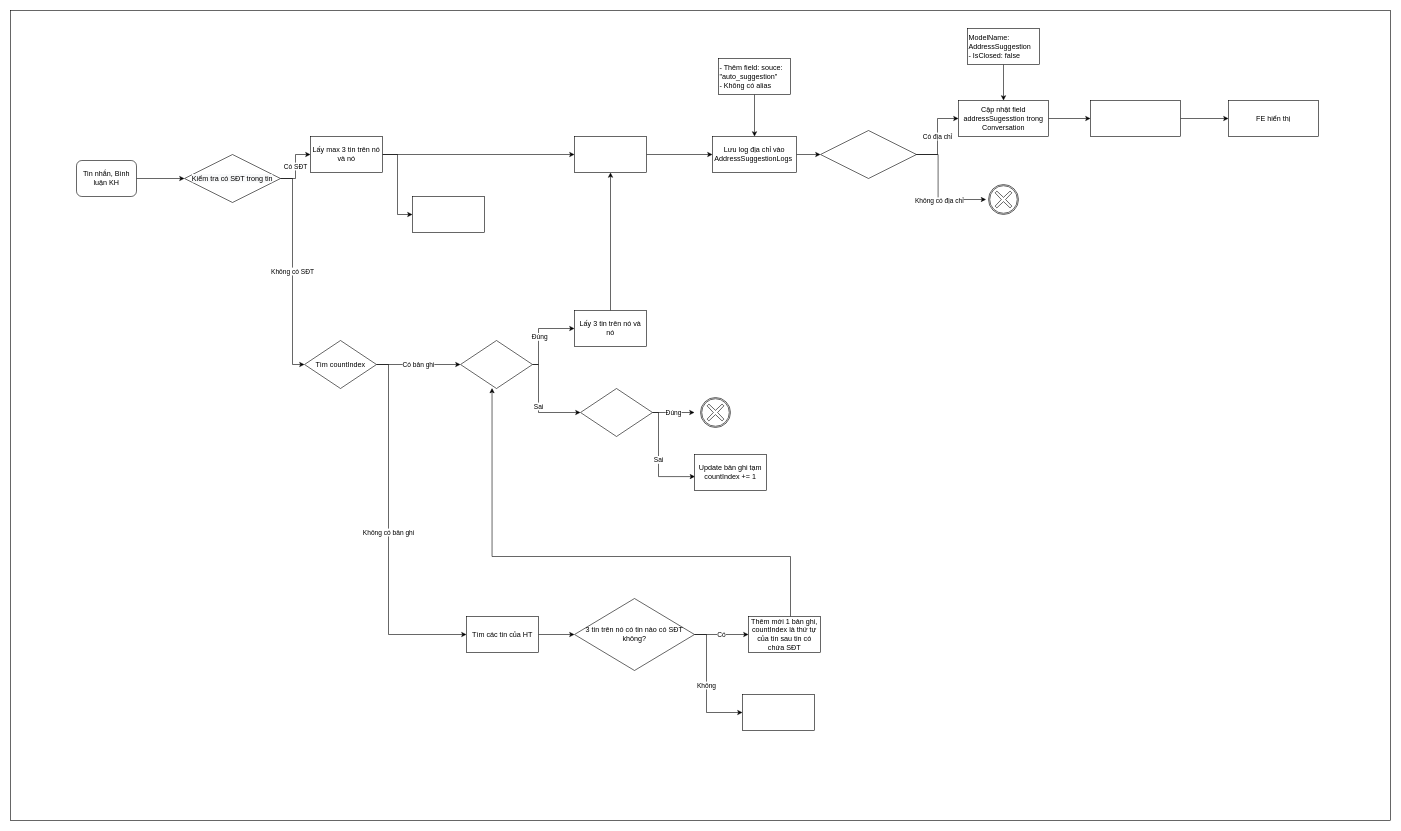
Image size: 1401x831. Some labels were removed from this diagram. The shapes that lost their labels are listed below. From the top down, each one's box as (x1, y1, x2, y2) in pixels, then its label:
(1090, 100, 1180, 136): Realtime conversation
(574, 136, 646, 172): Tìm địa chỉ theo API bên thứ 3
(820, 130, 916, 178): Kiểm tra địa chỉ tìm thấy
(412, 196, 484, 232): Tạo, Update bản ghi tạm lưu countIndex = 0
(460, 340, 532, 388): countIndex = 3
(580, 388, 652, 436): countIndex > 3
(742, 694, 814, 730): Thêm bản ghi có countIndex = 4
